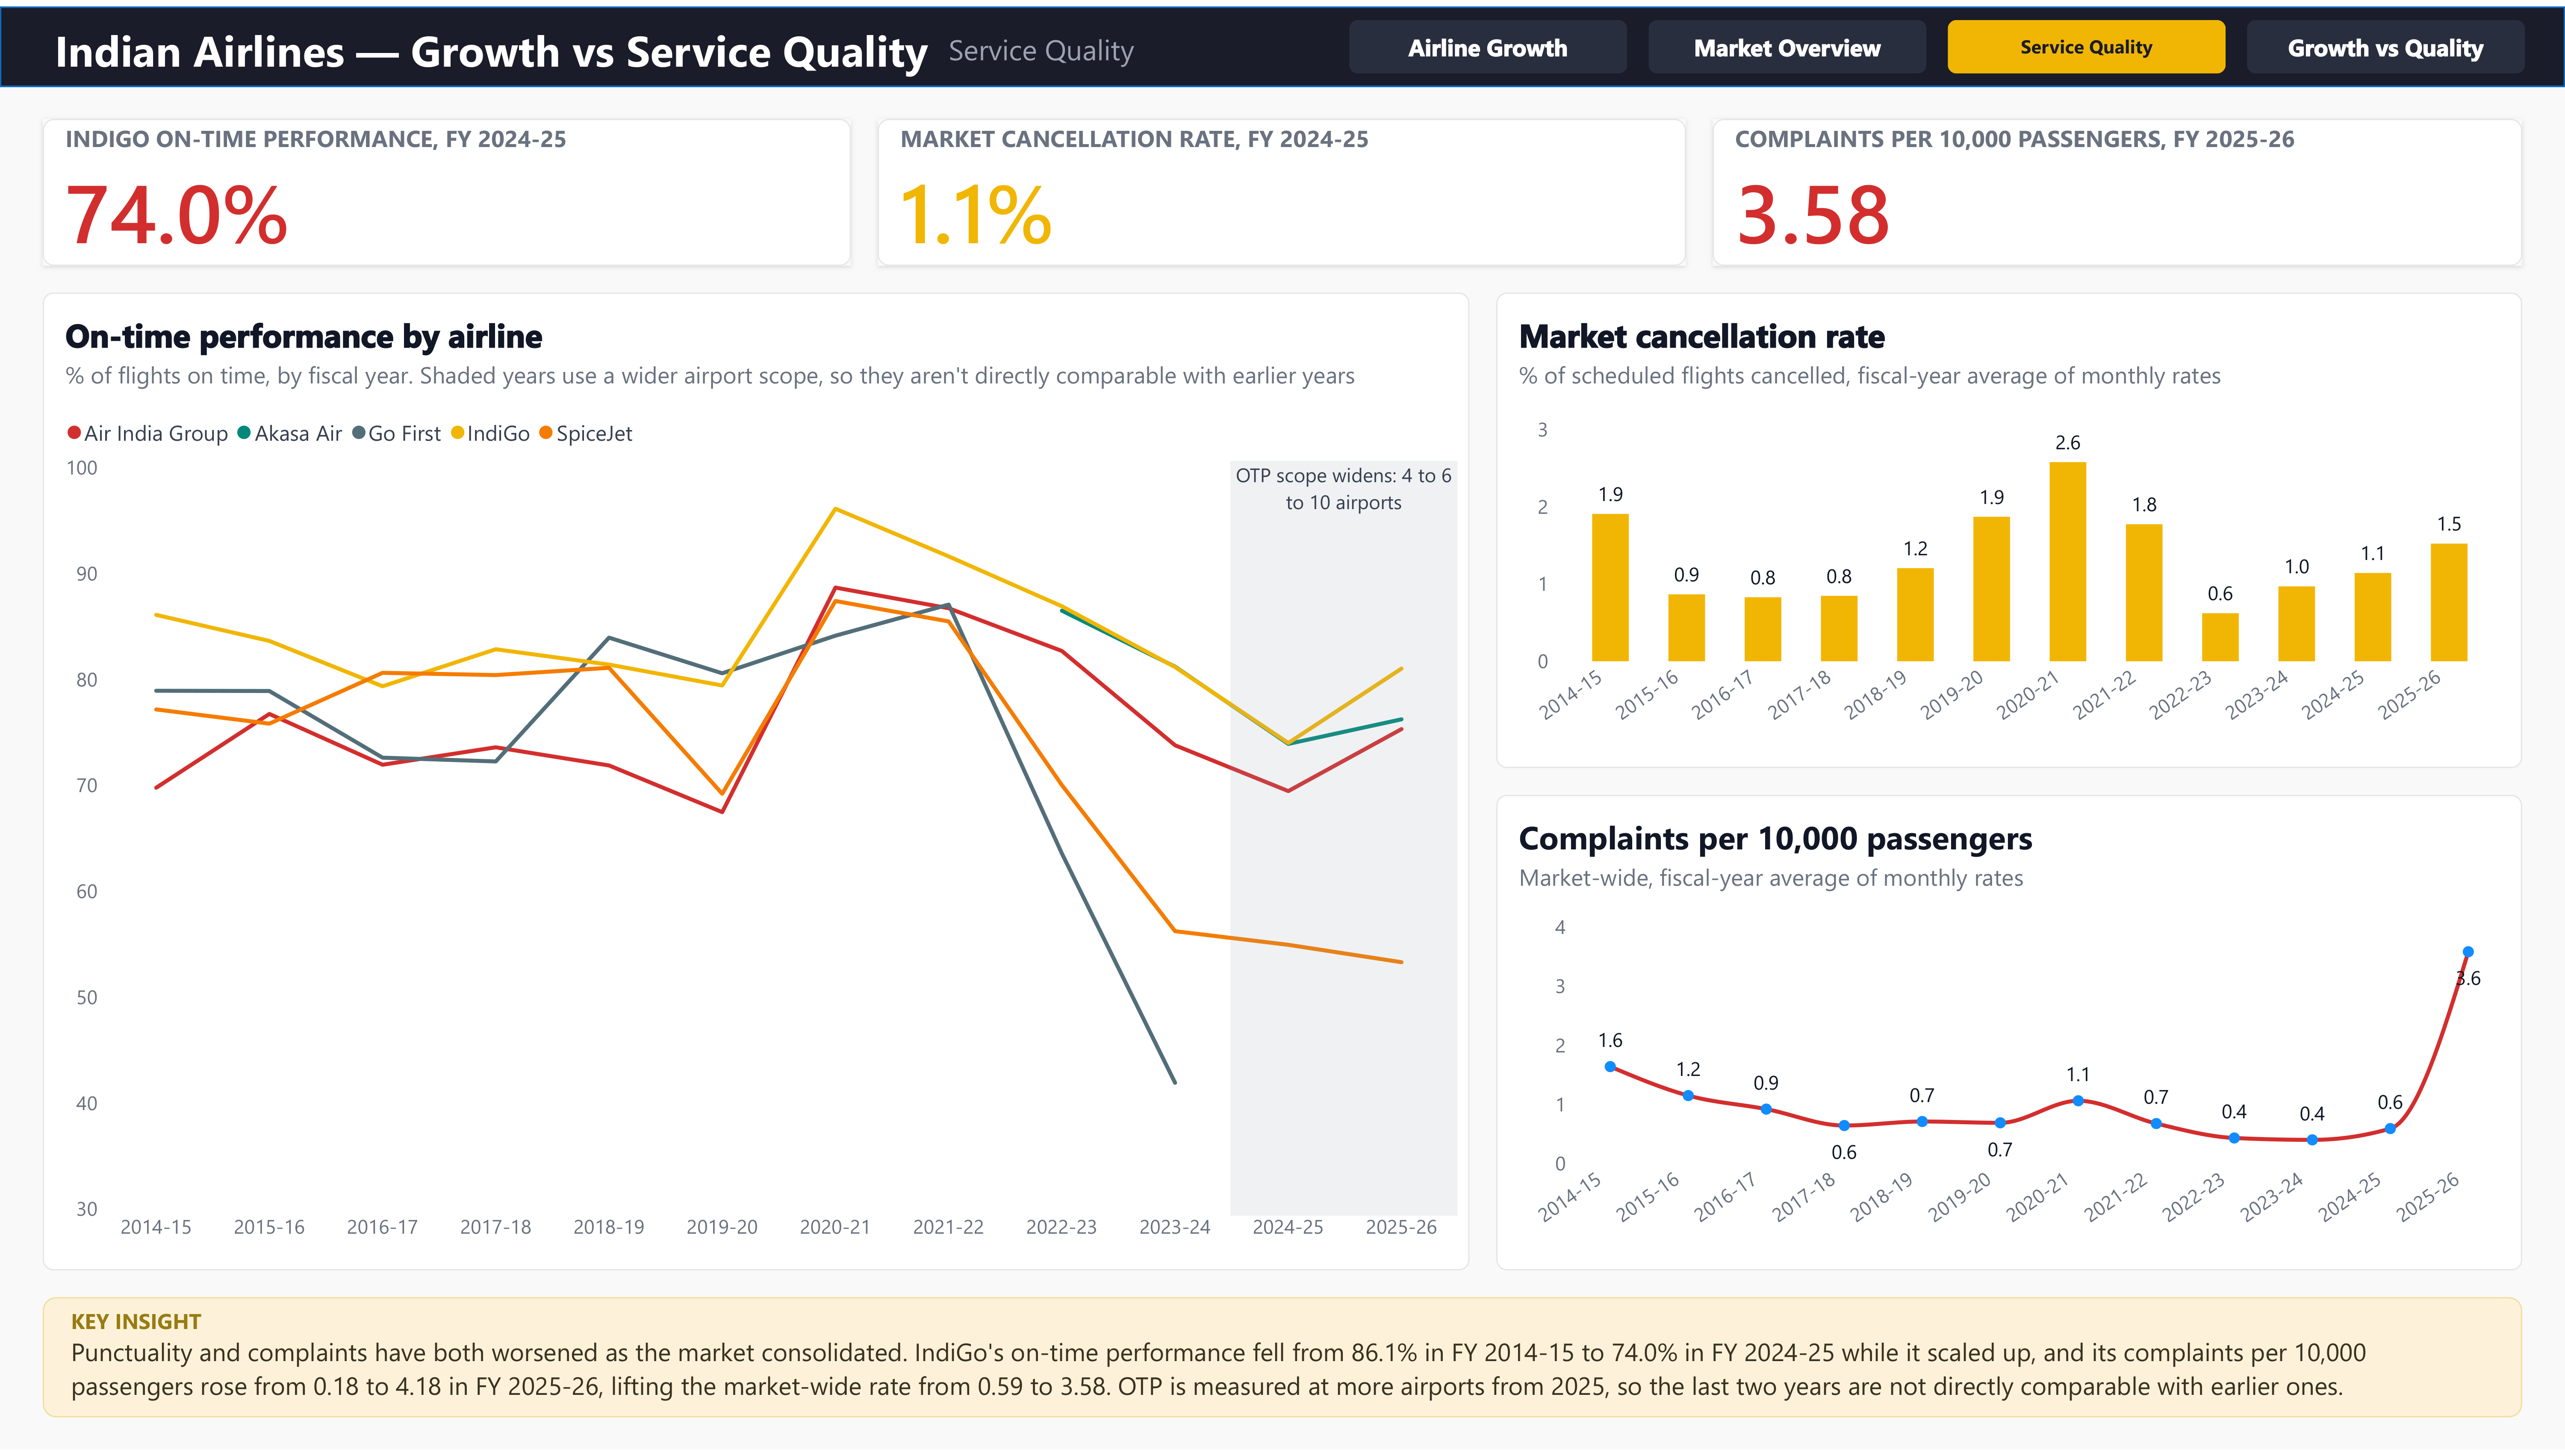

This screenshot's page, from the dashboard's own definition file:
{"tool":"powerbi","page":{"name":"Service Quality","canvas":[1920,1080],"ordinal":2},"visuals":[{"type":"shape","box":[0,0,1920,60],"z":0},{"type":"textbox","box":[32,10,666,50],"z":1000},{"type":"textbox","box":[710,17,300,30],"z":2000},{"type":"cardVisual","fields":{"Data":["public v_monthly_service_by_fy.IndiGo OTP 2024-25"]},"box":[32,84,605,110],"z":3000},{"type":"cardVisual","fields":{"Data":["public v_market_service_by_fy.Market Cancellation Rate 2024-25"]},"box":[657,84,605,110],"z":4000},{"type":"cardVisual","fields":{"Data":["public v_market_service_by_fy.Complaints per 10k 2025-26"]},"box":[1282,84,606,110],"z":5000},{"type":"lineChart","title":"On-time performance by airline","fields":{"Category":["public v_monthly_service_by_fy.fiscal_year"],"Series":["public v_monthly_service_by_fy.Service Airline"],"Y":["Sum(public v_monthly_service_by_fy.weighted_avg)"]},"box":[32,214,1068,732],"z":6000},{"type":"shape","box":[921,340,170,565],"z":7000},{"type":"clusteredColumnChart","title":" Market cancellation rate","fields":{"Category":["public v_market_service_by_fy.fiscal_year"],"Y":["Sum(public v_market_service_by_fy.avg_cancellation_rate_pct)"]},"box":[1120,214,768,356],"z":8000},{"type":"lineChart","title":" Complaints per 10,000 passengers","fields":{"Category":["public v_market_service_by_fy.fiscal_year"],"Y":["Sum(public v_market_service_by_fy.avg_complaints_per_10k)"]},"box":[1120,590,768,356],"z":9000},{"type":"textbox","box":[32,966,1856,90],"z":10000},{"type":"pageNavigator","box":[1010,10,880,40],"z":10001}]}

Visuals, with their boxes in screenshot pixels (x1, y1, x2, y2), scaled from the page's 1920x1080 canvas onto the 2565x1456 screenshot:
shape: <region>0, 0, 2565, 81</region>
textbox: <region>43, 14, 932, 81</region>
textbox: <region>949, 23, 1349, 63</region>
cardVisual - public v_monthly_service_by_fy.IndiGo OTP 2024-25: <region>43, 113, 851, 262</region>
cardVisual - public v_market_service_by_fy.Market Cancellation Rate 2024-25: <region>878, 113, 1686, 262</region>
cardVisual - public v_market_service_by_fy.Complaints per 10k 2025-26: <region>1713, 113, 2522, 262</region>
"On-time performance by airline" lineChart: <region>43, 289, 1470, 1275</region>
shape: <region>1230, 458, 1457, 1220</region>
" Market cancellation rate" clusteredColumnChart: <region>1496, 289, 2522, 769</region>
" Complaints per 10,000 passengers" lineChart: <region>1496, 796, 2522, 1275</region>
textbox: <region>43, 1302, 2522, 1424</region>
pageNavigator: <region>1349, 14, 2525, 68</region>
